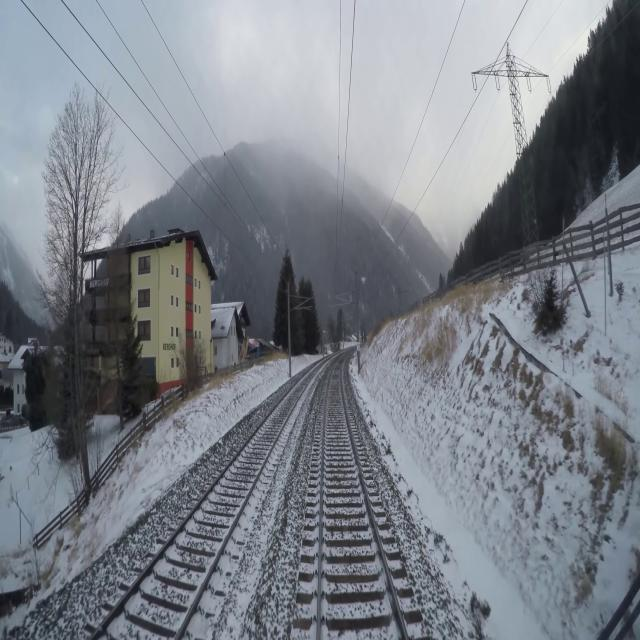rail-track: (94, 370, 314, 639), (322, 359, 404, 639)
